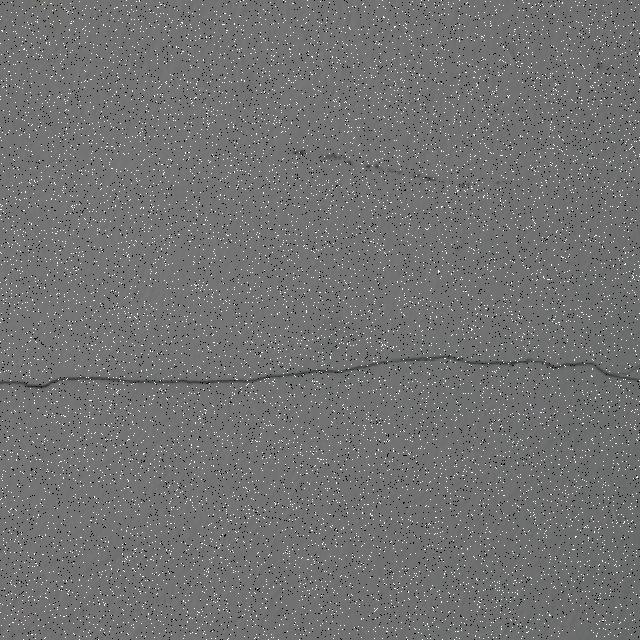minor crack: (0, 335, 639, 407)
